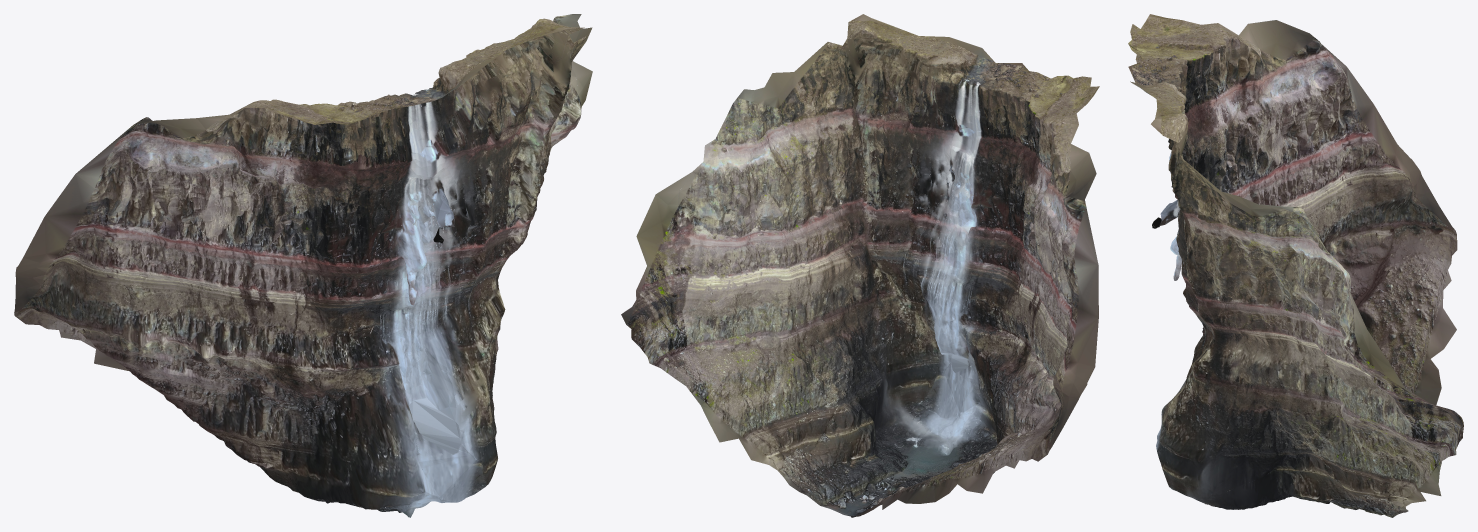
Rendered from Jotunheim_Waterfall_Hengifoss.glb.
3 renders of one model, left to right at view 1: azimuth 30°, elevation 25°; view 2: azimuth 150°, elevation 25°; view 3: azimuth 270°, elevation 25°, orthographic. The views are drawn at different scales.
Parts seen in each view (by area): view 1: Model; view 2: Model; view 3: Model.
Part boxes in pixels (<box>): Model: <box>14,14,592,517</box>; Model: <box>621,14,1099,517</box>; Model: <box>1128,14,1463,517</box>.
Bounding box in the file's own units: 25.02 × 20.73 × 14.43.
Materials: 3 (3 with a texture image).
